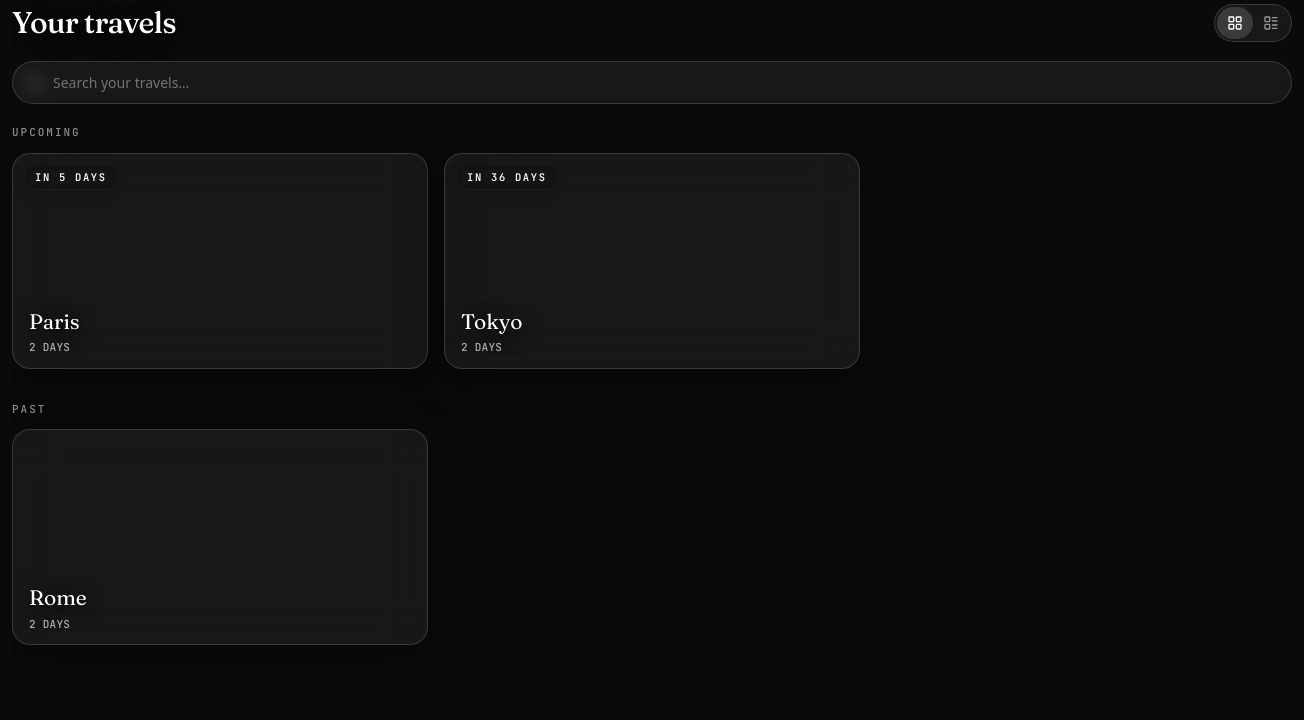
TravelsList › switches to the Detailed view when the Detailed toggle is clicked
Expected: the text "When" is not shown
What coordinates should you click on to do the following:
click the button named "detailed"
I would click on:
 (1271, 22)
Its box is [1253, 6, 1289, 38].
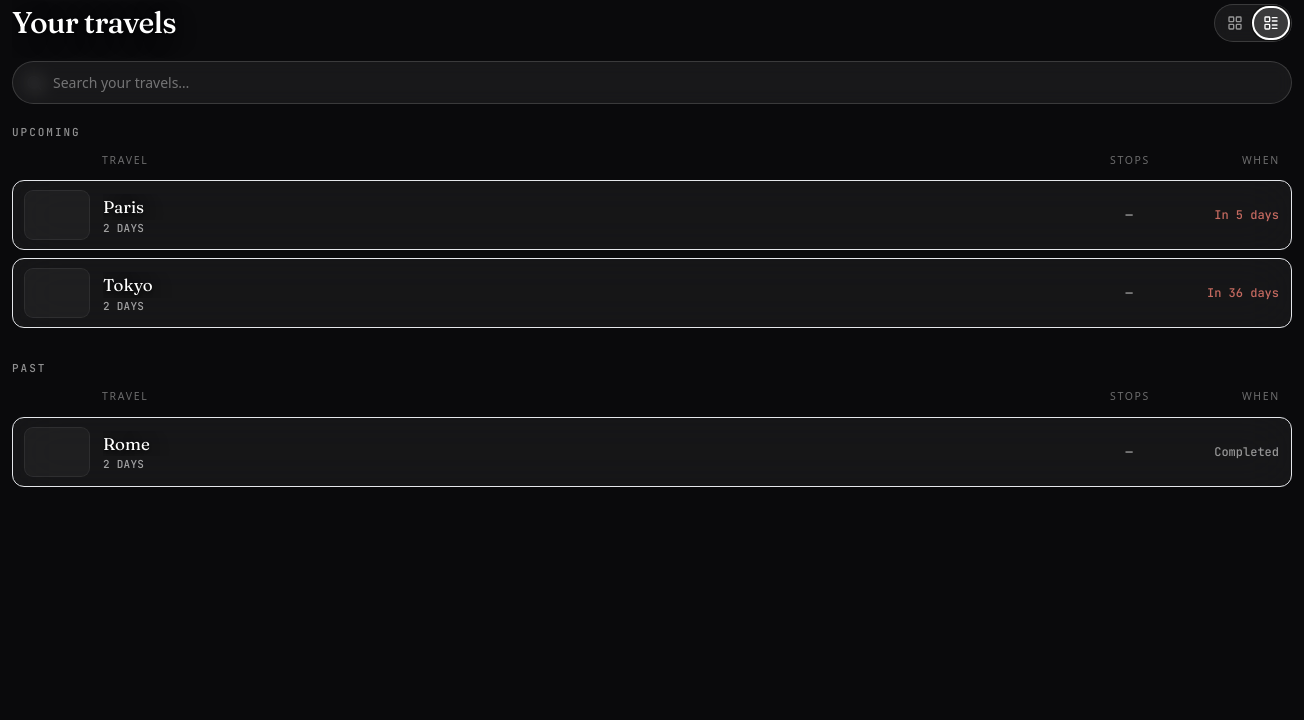
Now the 1st text "When" is shown, box [1242, 152, 1280, 166]
